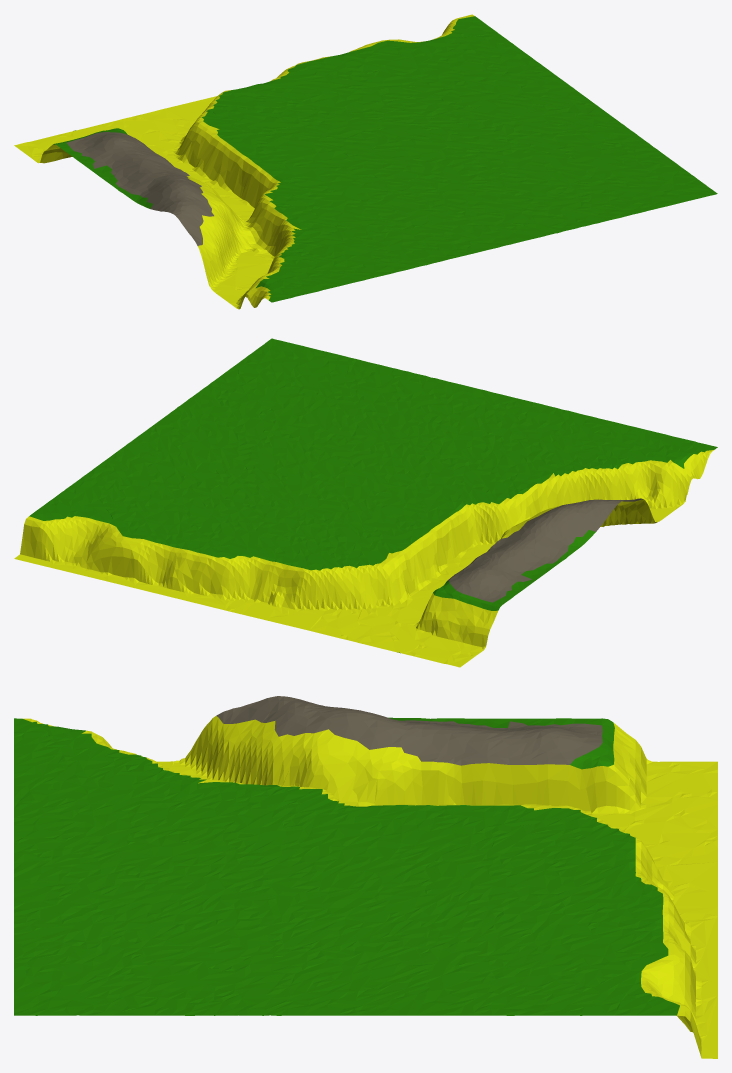
The picture shows the model from 3 angles, top to bottom: view 1: azimuth 30°, elevation 25°; view 2: azimuth 150°, elevation 25°; view 3: azimuth 270°, elevation 25°; orthographic projection. The views are drawn at different scales.
Visible parts, largest first — view 1: TerrainVeryHigh.009; view 2: TerrainVeryHigh.009; view 3: TerrainVeryHigh.009.
Part boxes in pixels (x1=…): TerrainVeryHigh.009: x1=14, y1=14, x2=717, y2=309; TerrainVeryHigh.009: x1=14, y1=338, x2=717, y2=667; TerrainVeryHigh.009: x1=14, y1=696, x2=717, y2=1058.
Size of the model in its own units: 1250 by 1252 by 139.
